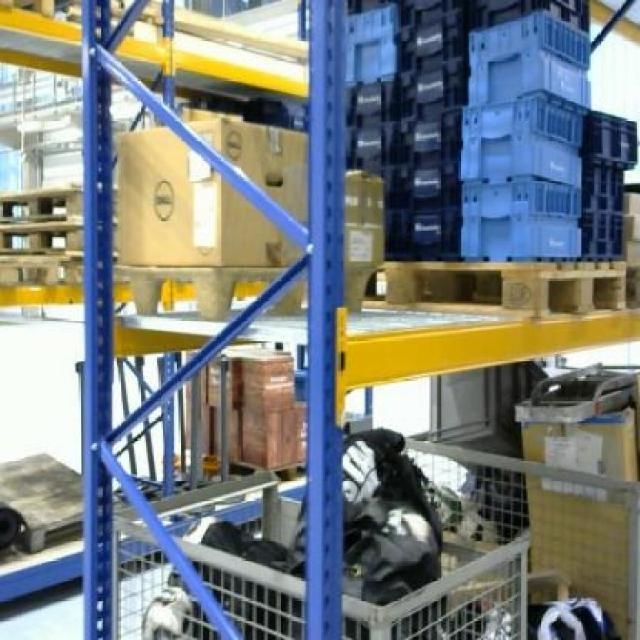box: (114, 117, 308, 265), (520, 422, 638, 590), (346, 172, 382, 268)
